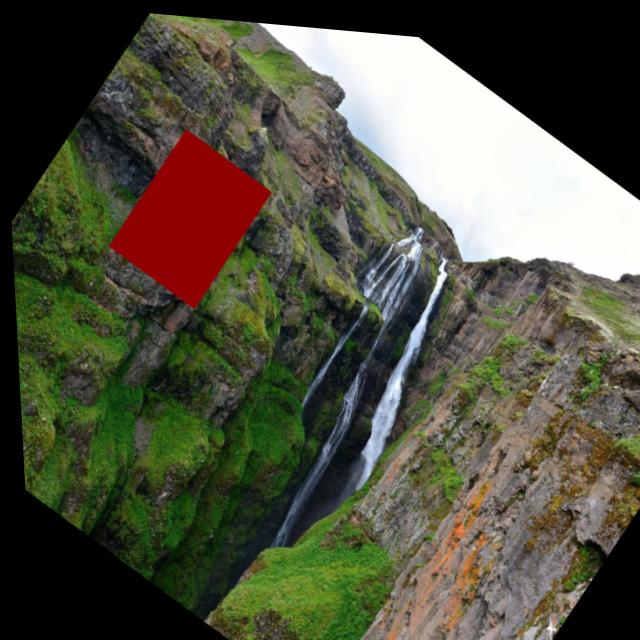RedSquare: (90, 109, 285, 322)
